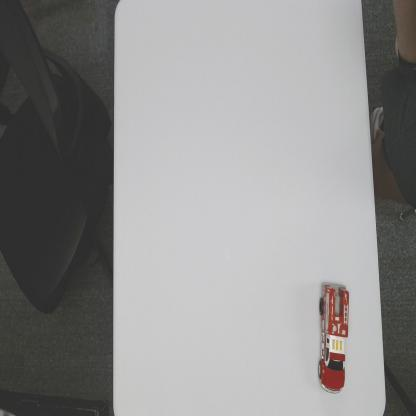Firetruck: (317, 278, 350, 396)
